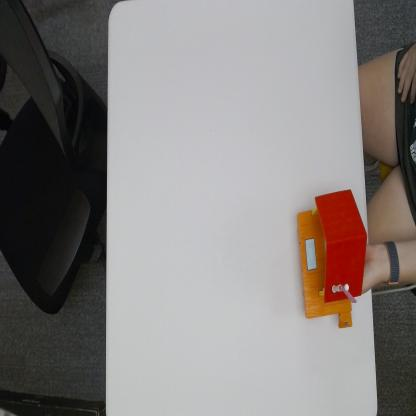Hand: (362, 244, 376, 296)
House: (298, 189, 364, 332)
